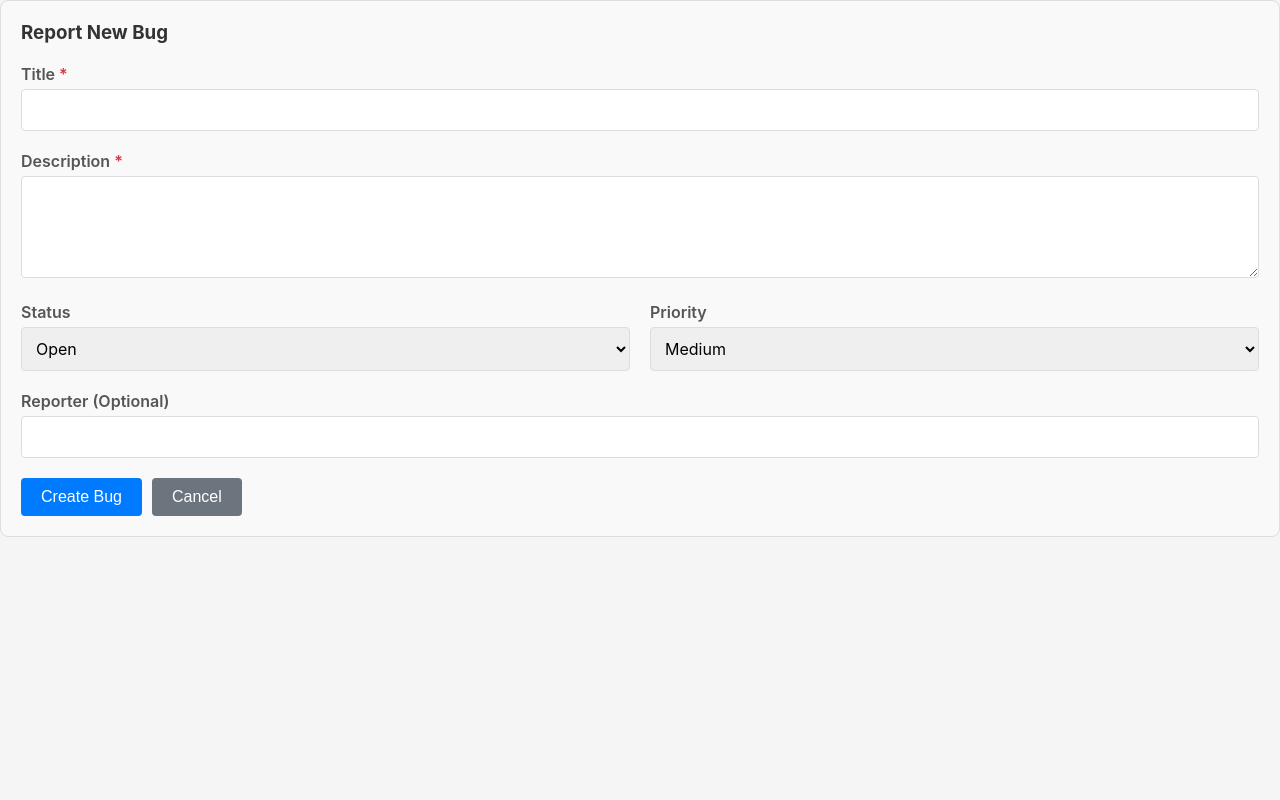
it: BugForm Unit Tests › should clear errors when user starts typing
Step 1. Click the button with test id "submit-button" → (81, 497), box top-left (21, 478), bottom-right (142, 516)
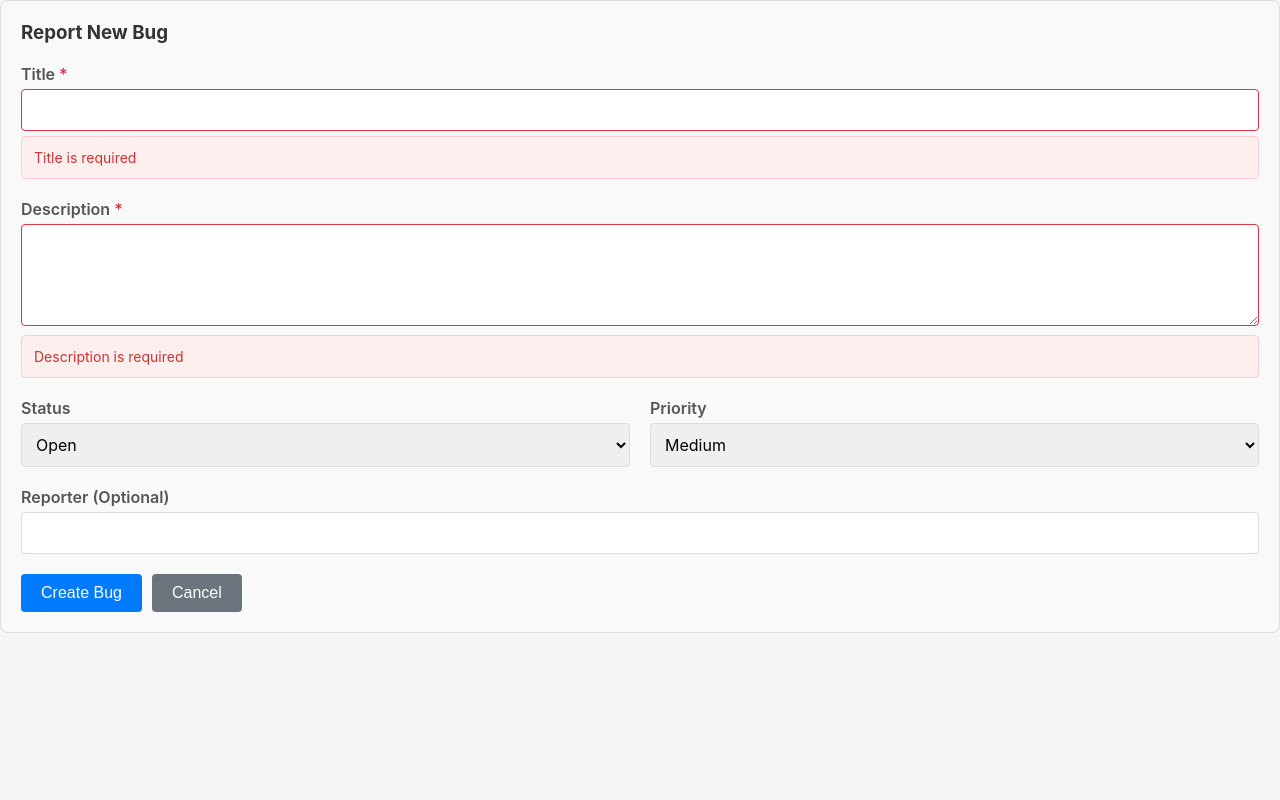
Expected: the text "Title is required" is shown, top-left (21, 136), bottom-right (1259, 179)
Step 2. Type "New Title" into the field with test id "title-input" → (640, 110), box top-left (21, 89), bottom-right (1259, 131)
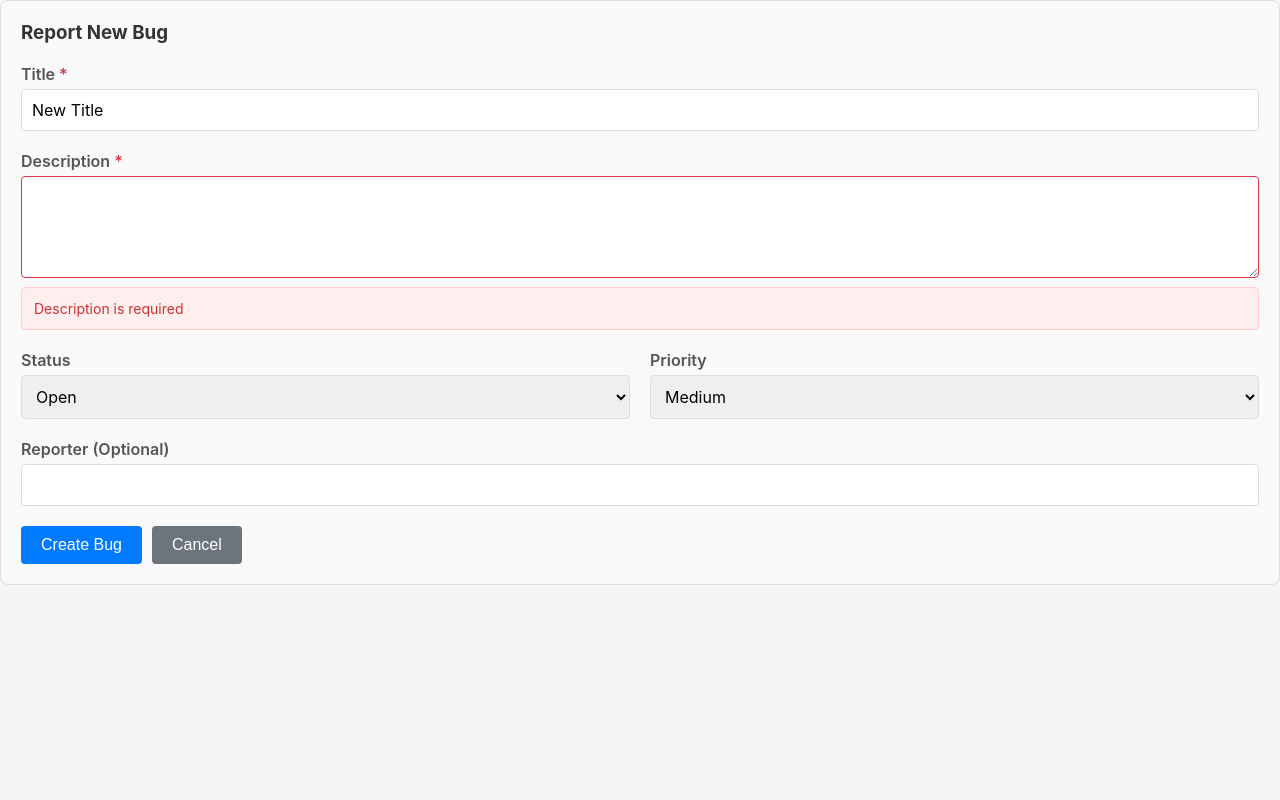
Expected: the text with test id "title-error" is gone
